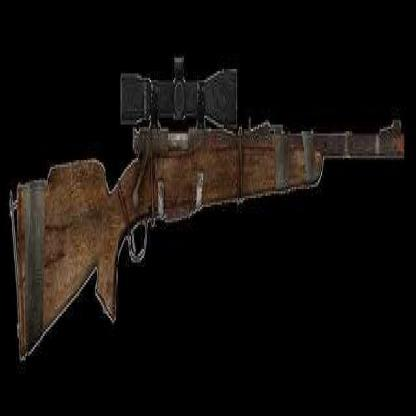Heavy Gun: (9, 54, 408, 363)
